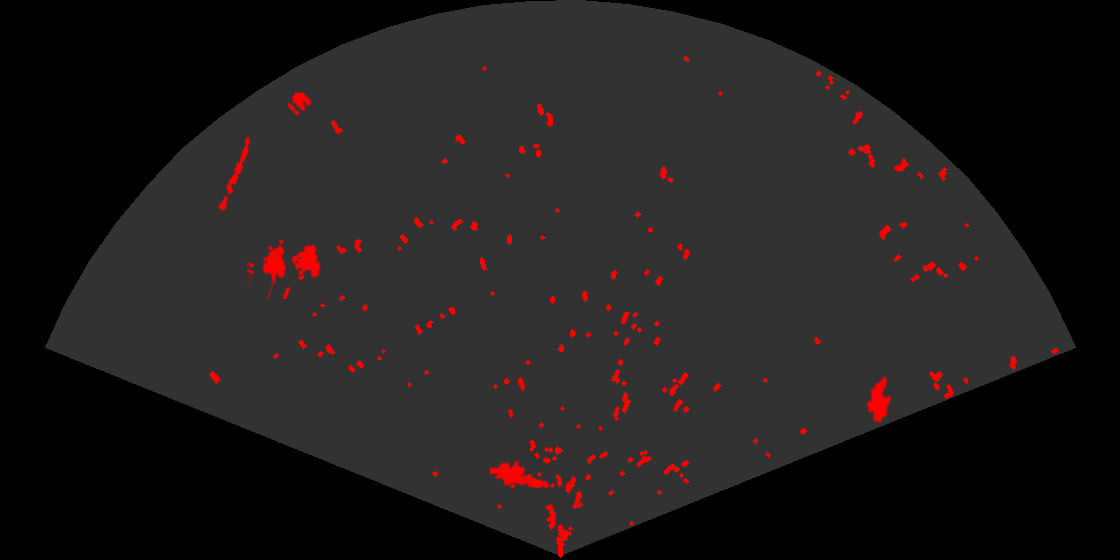AUV: (865, 375, 893, 425)
ball: (285, 90, 313, 117)
cage: (247, 237, 322, 299)
chain: (217, 135, 252, 217)
frogman: (490, 459, 550, 490)
